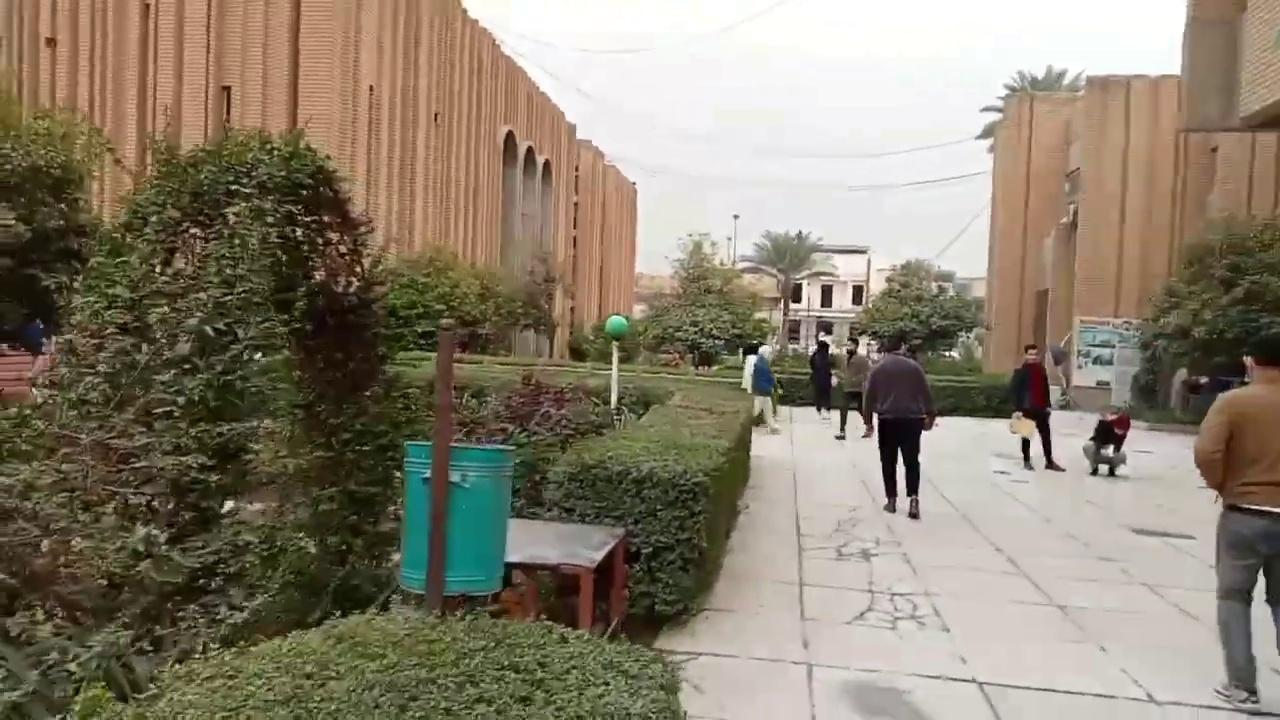person: (1193, 331, 1279, 713), (860, 332, 937, 519), (1008, 343, 1067, 471), (833, 336, 873, 439), (1082, 407, 1130, 476), (749, 344, 782, 433), (808, 339, 833, 420)
tree: (1, 114, 407, 716), (533, 433, 714, 622), (1128, 210, 1278, 422), (0, 102, 119, 348), (379, 241, 550, 359), (636, 232, 767, 368), (848, 256, 978, 364), (742, 227, 827, 350), (975, 63, 1086, 149)
